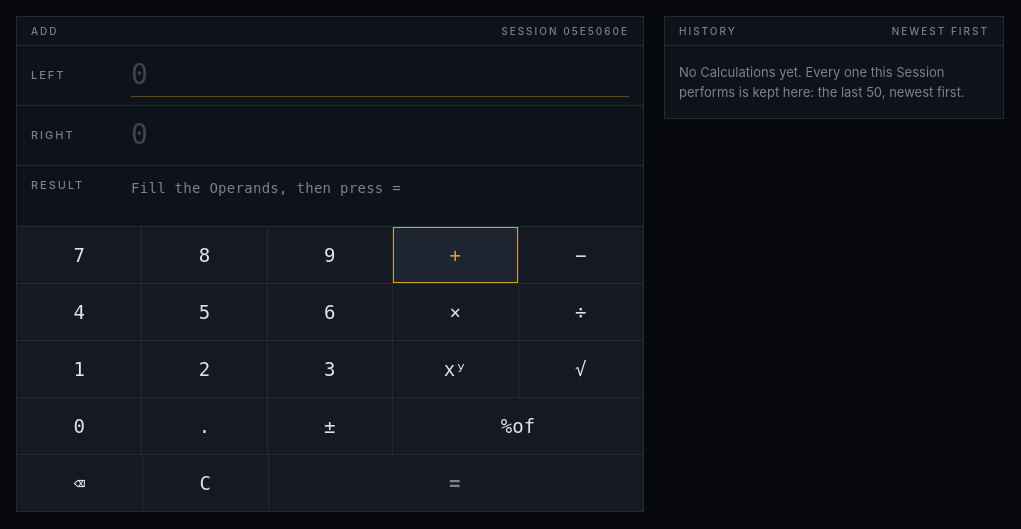
keypad entry fills the field the Operation still needs
This screenshot has width=1021, height=529.
Click the button with test id "key-7": (79, 255) 17,227 -> 141,283
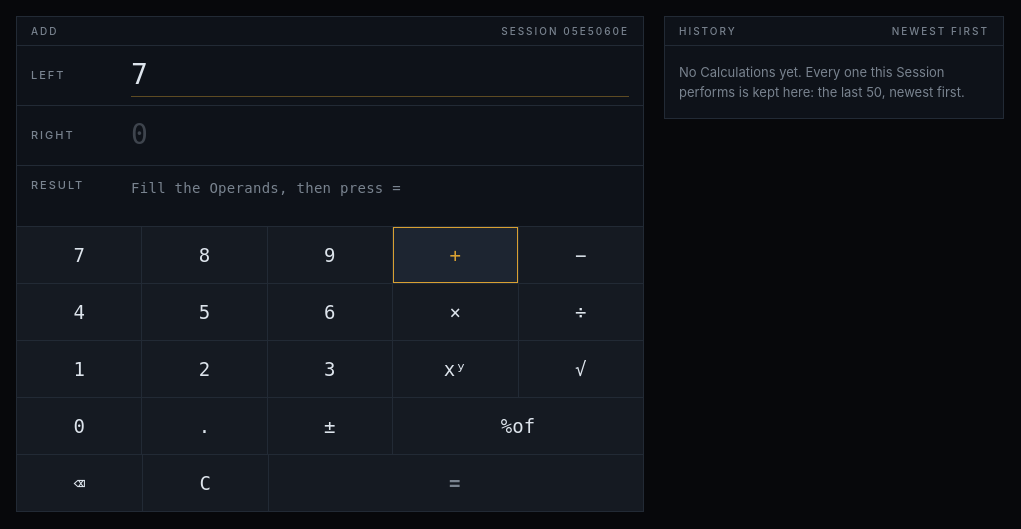
expect the field with test id "operand-left" holds "7": met, box 131,54 -> 629,97
Switching Operation moves entry to the first Operand it still lacks.
Click the button with test id "op-multiply": (455, 312) 393,284 -> 518,340
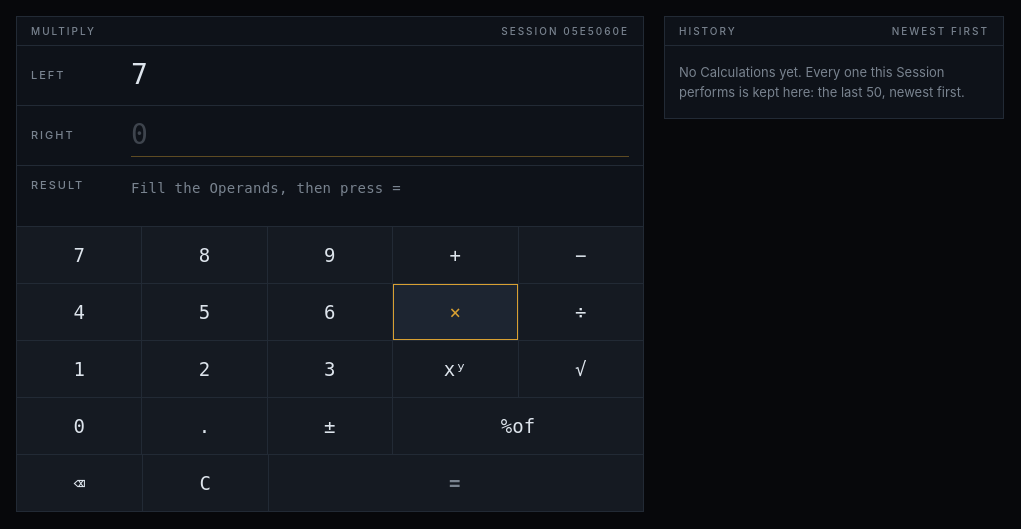
expect the text with test id "operation-name" reads "multiply": met, box 31,25 -> 96,37
Click the button with test id "key-3": (330, 369) 268,341 -> 392,397
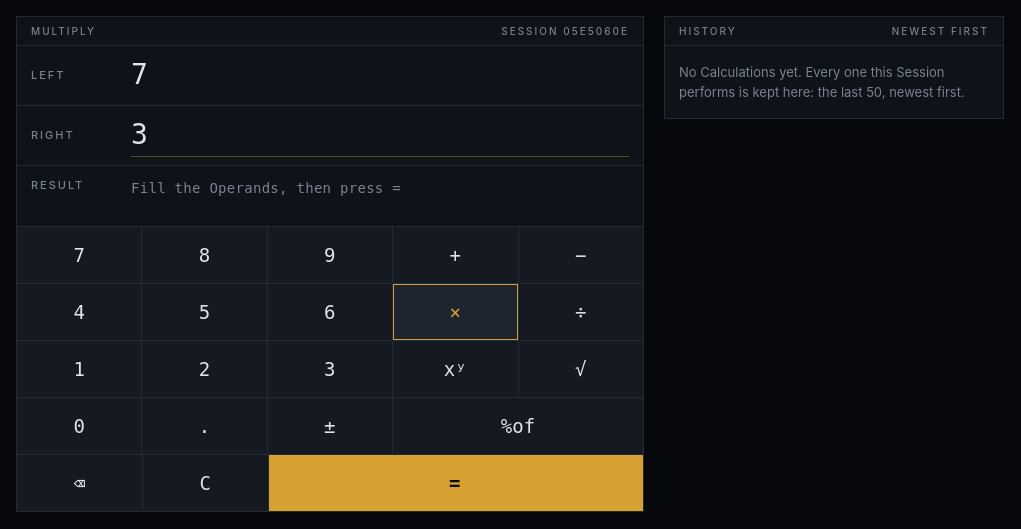
expect the field with test id "operand-right" holds "3": met, box 131,114 -> 629,157
